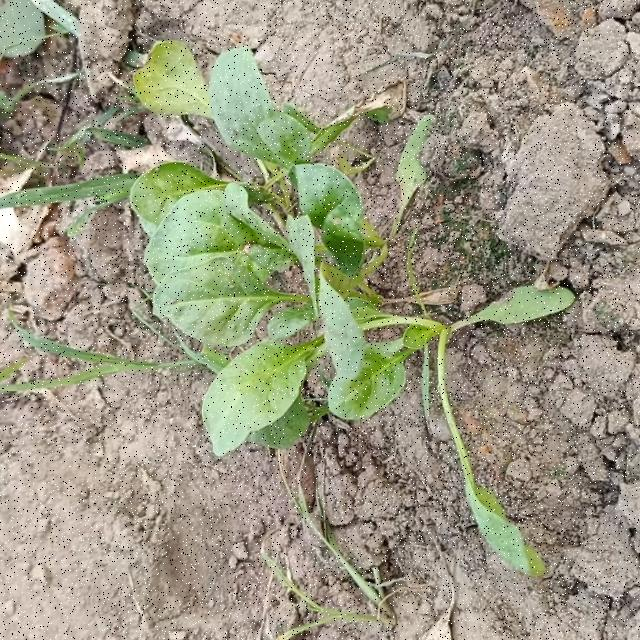plant: (129, 42, 574, 574)
